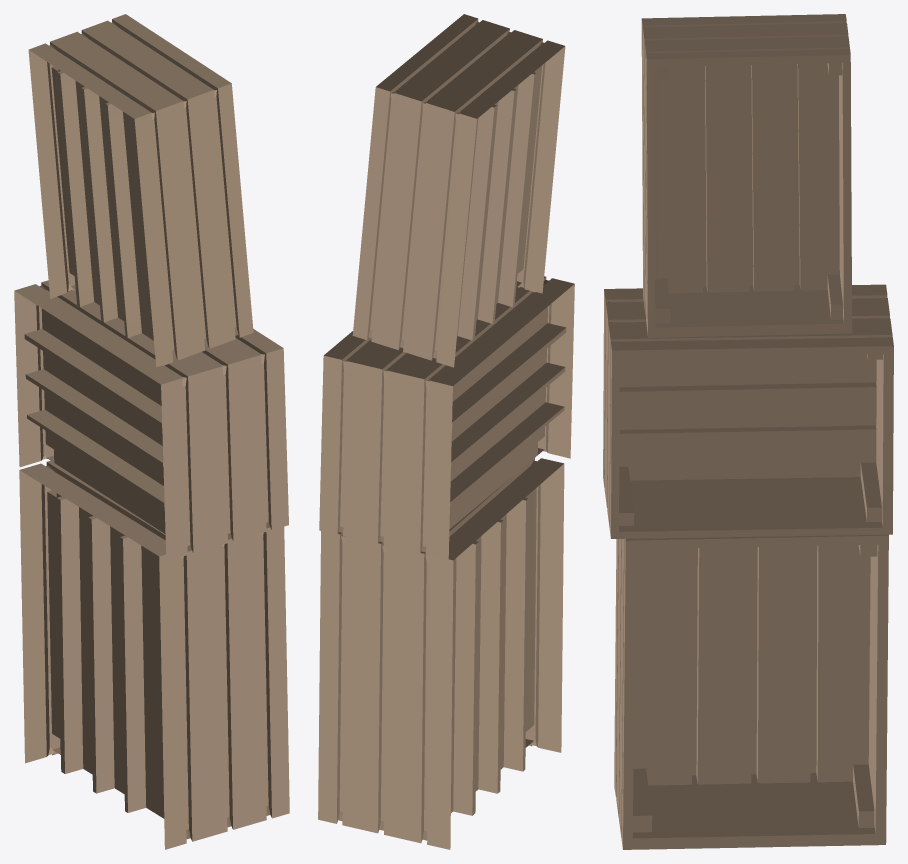
3 renders of one model, left to right at view 1: azimuth 30°, elevation 25°; view 2: azimuth 150°, elevation 25°; view 3: azimuth 270°, elevation 25°, orthographic. The views are drawn at different scales.
Parts seen in each view (by area): view 1: youleback10; view 2: youleback10; view 3: youleback10.
Part boxes in pixels (x1,y1,x2,y2): youleback10: [14, 14, 289, 849]; youleback10: [318, 14, 574, 849]; youleback10: [603, 14, 893, 849].
Bounding box in the file's own units: 1.9 × 8.63 × 2.95.
